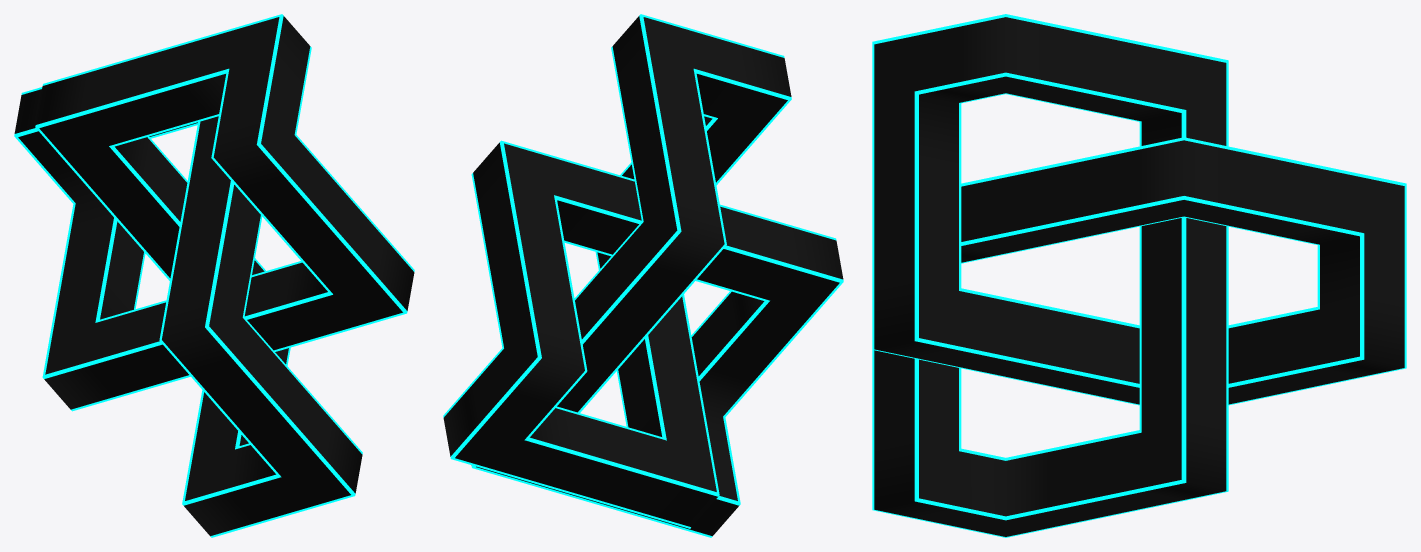
The model's file is Trefoil.fbx.
The picture shows the model from 3 angles, left to right: view 1: azimuth 30°, elevation 25°; view 2: azimuth 150°, elevation 25°; view 3: azimuth 270°, elevation 25°; orthographic projection. The views are drawn at different scales.
Visible parts, largest first — view 1: Cube; view 2: Cube; view 3: Cube.
Part boxes in pixels (x1=…): Cube: x1=14, y1=14, x2=414, y2=537; Cube: x1=443, y1=14, x2=843, y2=537; Cube: x1=872, y1=14, x2=1406, y2=537.
Bounding box in the file's own units: 10.68 × 19.69 × 16.97.
